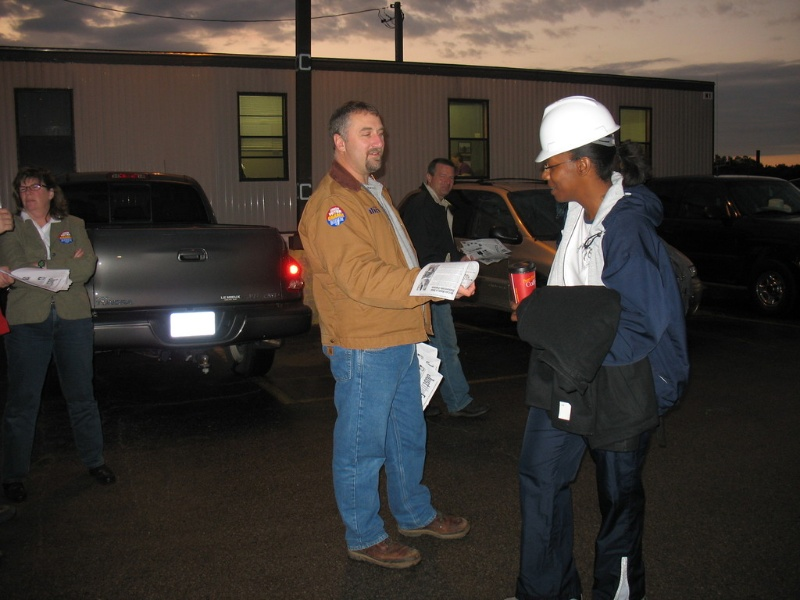Baret: (536, 94, 621, 160)
